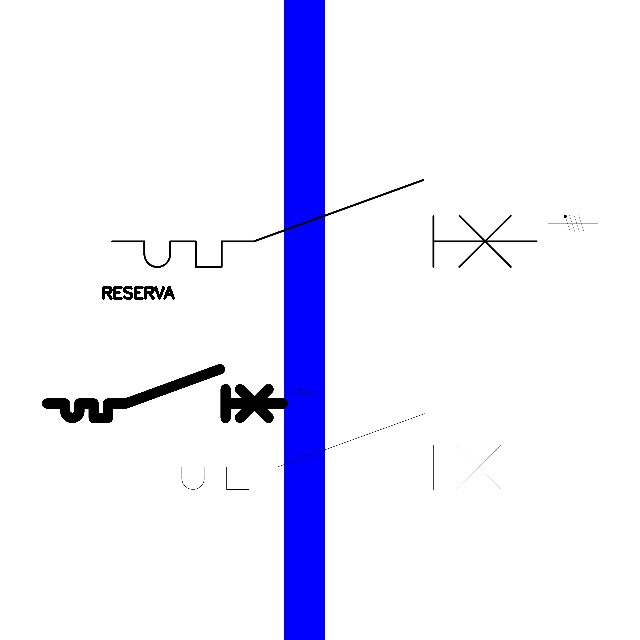interruptor_termomagnetico: (101, 169, 547, 278), (144, 404, 533, 499), (41, 363, 289, 424)
